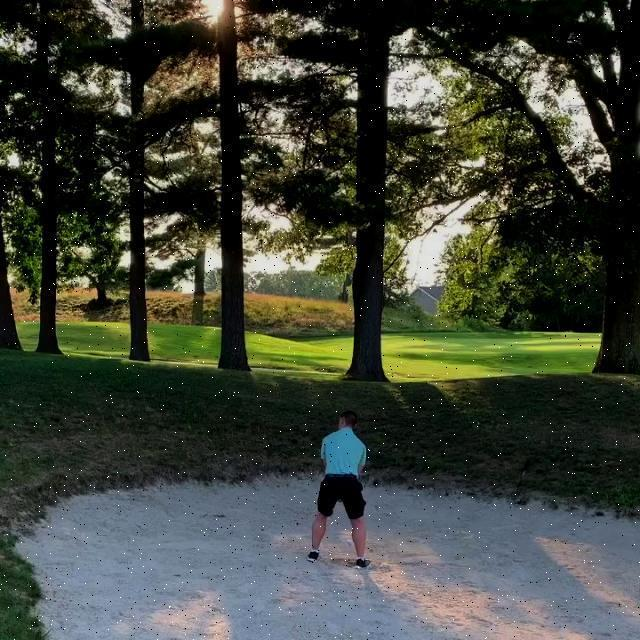GolfBall: (347, 540, 352, 546)
